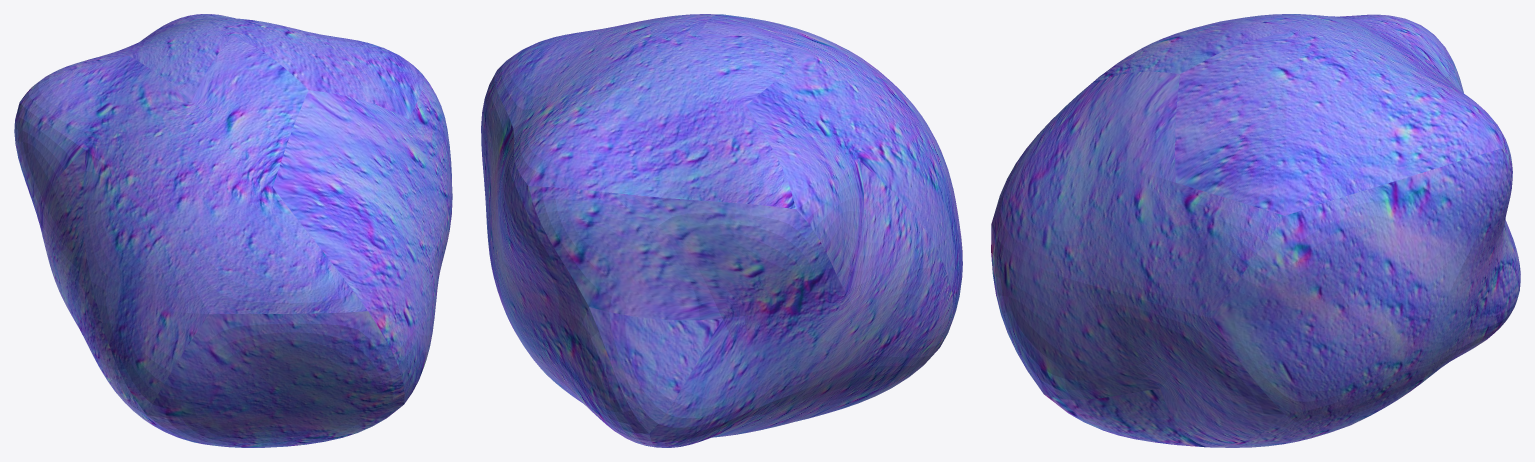
Rendered from smallasteroid17_LOD1.fbx.
3 views of the same model, side by side, from view 1: azimuth 30°, elevation 25°; view 2: azimuth 150°, elevation 25°; view 3: azimuth 270°, elevation 25° (orthographic). The views are drawn at different scales.
Parts seen in each view (by area): view 1: Icosphere; view 2: Icosphere; view 3: Icosphere.
Boxes of the visible parts, x1,y1,x2,y2 form: Icosphere: [14, 14, 452, 447]; Icosphere: [481, 14, 962, 447]; Icosphere: [991, 14, 1520, 447].
Bounding box in the file's own units: 211 × 196 × 237.
